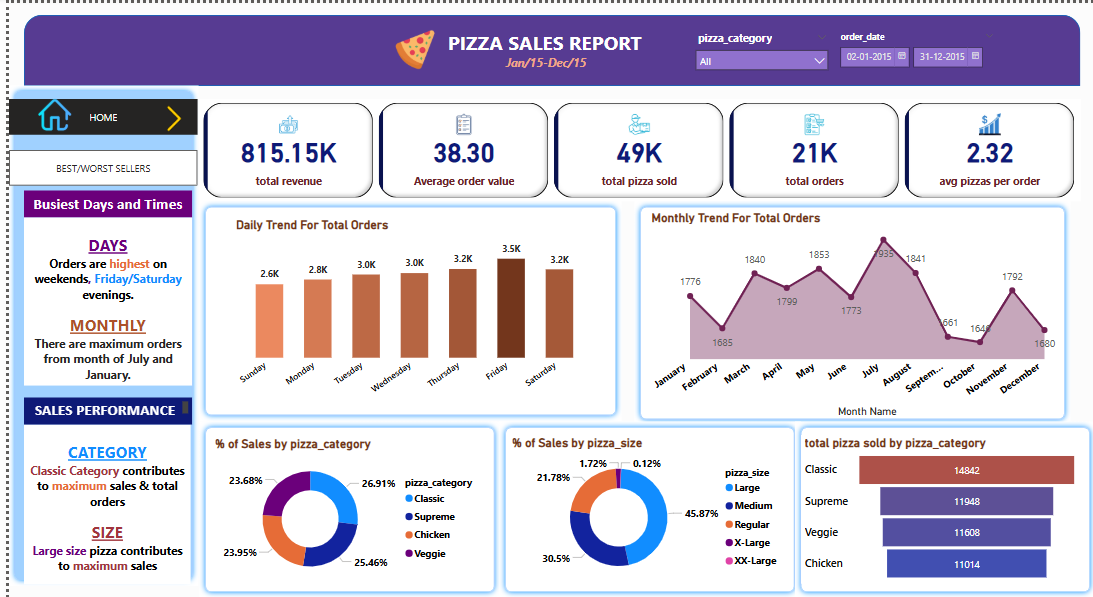

This screenshot's page, from the dashboard's own definition file:
{"tool":"powerbi","page":{"name":"HOME","canvas":[1500,900],"ordinal":0},"visuals":[{"type":"cardVisual","fields":{"Data":["pizza_sales.total revenue","pizza_sales.averageorder value","pizza_sales.total pizza sold","pizza_sales.total orders","pizza_sales.avg pizzas per order"]},"box":[262.2,132.1,1216.8,141.5],"z":0},{"type":"shape","box":[20.8,17,1458.3,98.1],"z":1000},{"type":"textbox","box":[575.4,30.2,328.3,49.1],"z":2000},{"type":"textbox","box":[666,66,149,41.5],"z":3000},{"type":"image","box":[526.3,32.1,69.8,66],"z":4000},{"type":"shape","box":[262.2,273.5,582.9,303.7],"z":5000},{"type":"columnChart","title":"Daily Trend For Total Orders","fields":{"Y":["pizza_sales.total orders"],"Category":["pizza_sales1.Day Name"]},"box":[309.4,296.2,503.7,262.2],"z":6000},{"type":"shape","box":[864,273.5,601.8,309.4],"z":7000},{"type":"areaChart","title":"    Monthly Trend For Total Orders","fields":{"Y":["pizza_sales.total orders"],"Category":["pizza_sales1.Month Name"]},"box":[882.9,286.8,569.7,290.5],"z":8000},{"type":"shape","box":[262.2,577.3,415,243.4],"z":9000},{"type":"shape","box":[677.3,577.3,415,243.4],"z":10000},{"type":"shape","box":[1084.8,577.3,415,243.4],"z":11000},{"type":"donutChart","title":"% of Sales by pizza_category","fields":{"Category":["pizza_sales1.pizza_category"],"Y":["pizza_sales.total revenue"]},"box":[279.2,598,386.7,207.5],"z":12000},{"type":"donutChart","title":"% of Sales by pizza_size","fields":{"Y":["pizza_sales.total revenue"],"Category":["pizza_sales.pizza_size"]},"box":[690.5,596.1,386.7,207.5],"z":13000},{"type":"funnel","fields":{"Category":["pizza_sales.pizza_category"],"Y":["pizza_sales.total pizza sold"]},"box":[1092.3,596.1,386.7,205.6],"z":14000},{"type":"shape","box":[0,113.9,261.1,690.7],"z":15000},{"type":"textbox","box":[20.7,258.8,231.9,37.3],"z":16000},{"type":"textbox","box":[21.4,581.5,230.2,220.7],"z":17000},{"type":"textbox","box":[20.7,296.1,231.9,231.9],"z":18000},{"type":"textbox","box":[20.7,544.6,231.9,37.3],"z":19000},{"type":"slicer","fields":{"Values":["pizza_sales1.order_date"]},"box":[1134.7,33.1,236,64.2],"z":20000},{"type":"slicer","fields":{"Values":["pizza_sales1.pizza_category"]},"box":[938,33.1,202.9,64.2],"z":20001},{"type":"pageNavigator","box":[0,132.5,260.9,49.7],"z":20002},{"type":"pageNavigator","box":[0,202.9,260.9,49.7],"z":20003},{"type":"image","box":[205,132.5,45.6,53.8],"z":20004},{"type":"image","box":[35.2,126.3,55.9,55.9],"z":20005}]}

Visuals, with their boxes on the page's 1500x900 design canvas (x1, y1, x2, y2). These are canvas units, not pixel positions in the 1093x597 screenshot, which may show the page scaled, cropped or inside an application window:
cardVisual - pizza_sales.total revenue x pizza_sales.averageorder value: rect(262, 132, 1479, 274)
shape: rect(21, 17, 1479, 115)
textbox: rect(575, 30, 904, 79)
textbox: rect(666, 66, 815, 108)
image: rect(526, 32, 596, 98)
shape: rect(262, 274, 845, 577)
"Daily Trend For Total Orders" columnChart: rect(309, 296, 813, 558)
shape: rect(864, 274, 1466, 583)
"    Monthly Trend For Total Orders" areaChart: rect(883, 287, 1453, 577)
shape: rect(262, 577, 677, 821)
shape: rect(677, 577, 1092, 821)
shape: rect(1085, 577, 1500, 821)
"% of Sales by pizza_category" donutChart: rect(279, 598, 666, 806)
"% of Sales by pizza_size" donutChart: rect(690, 596, 1077, 804)
funnel - pizza_sales.pizza_category x pizza_sales.total pizza sold: rect(1092, 596, 1479, 802)
shape: rect(0, 114, 261, 805)
textbox: rect(21, 259, 253, 296)
textbox: rect(21, 582, 252, 802)
textbox: rect(21, 296, 253, 528)
textbox: rect(21, 545, 253, 582)
slicer - pizza_sales1.order_date: rect(1135, 33, 1371, 97)
slicer - pizza_sales1.pizza_category: rect(938, 33, 1141, 97)
pageNavigator: rect(0, 132, 261, 182)
pageNavigator: rect(0, 203, 261, 253)
image: rect(205, 132, 251, 186)
image: rect(35, 126, 91, 182)
